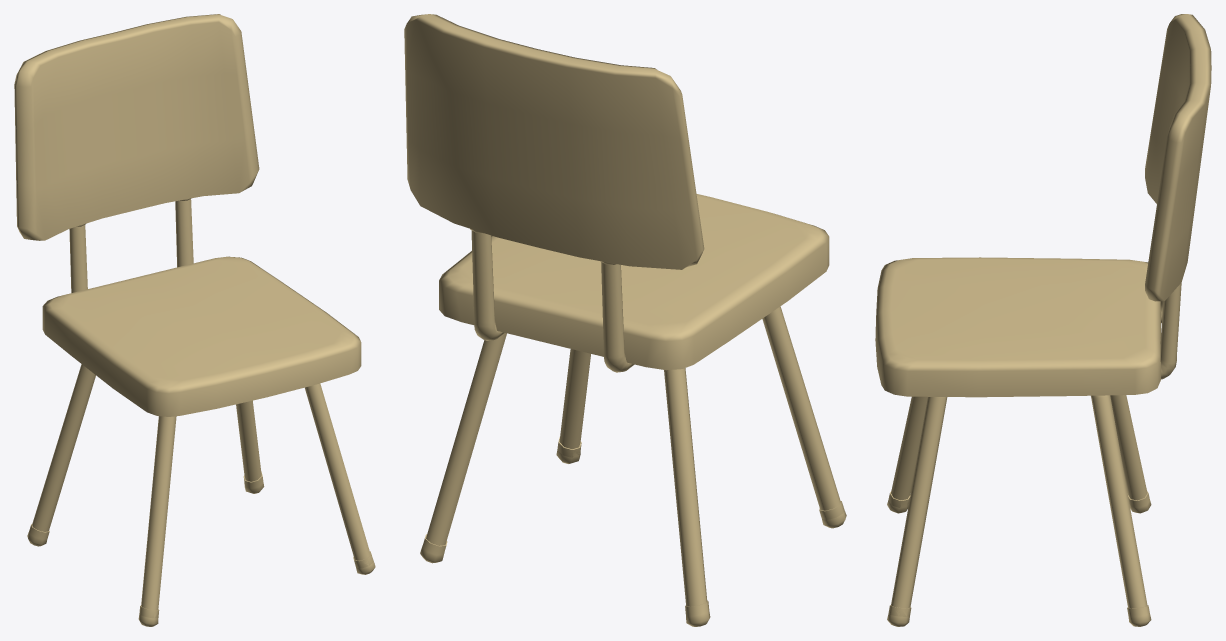
Rendered from mdl_cafeteriachair_01.fbx.
3 views of the same model, side by side, from view 1: azimuth 30°, elevation 25°; view 2: azimuth 150°, elevation 25°; view 3: azimuth 270°, elevation 25° (orthographic). The views are drawn at different scales.
Parts seen in each view (by area): view 1: mdl_Cafeteriachair_01; view 2: mdl_Cafeteriachair_01; view 3: mdl_Cafeteriachair_01.
Part boxes in pixels (bbox=[...]): mdl_Cafeteriachair_01: bbox=[14, 14, 375, 626]; mdl_Cafeteriachair_01: bbox=[404, 14, 846, 626]; mdl_Cafeteriachair_01: bbox=[875, 14, 1211, 626].
Size of the model in its own units: 46.2 by 85.4 by 51.57.
